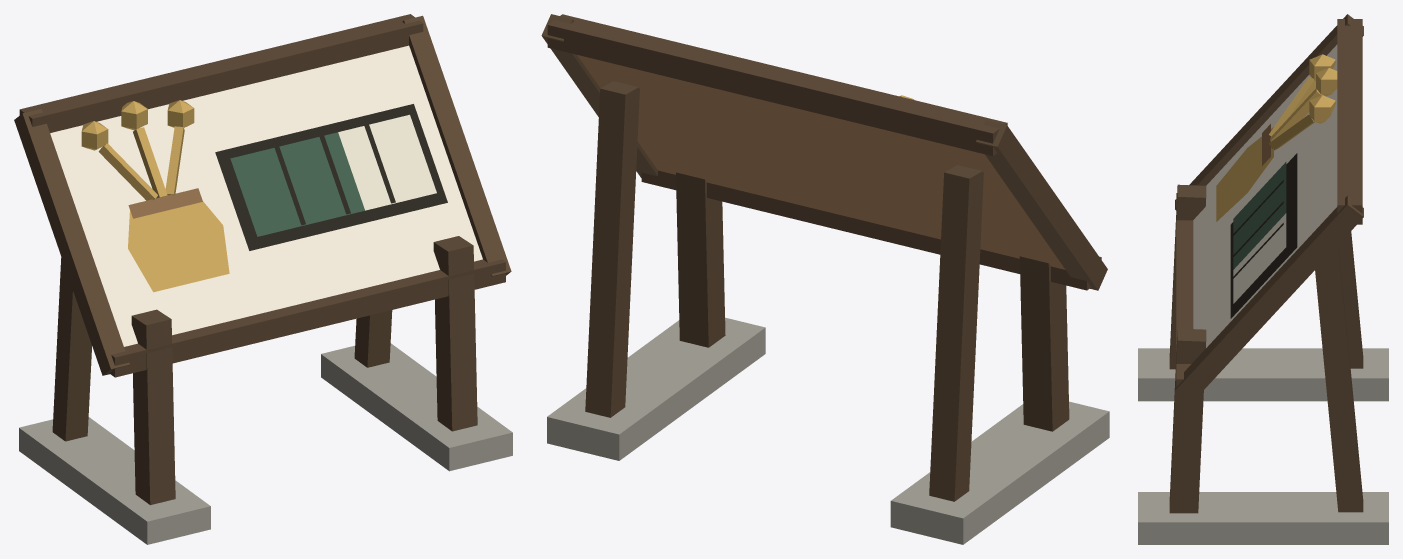
Rendered from quay-sign-grain.glb.
3 renders of one model, left to right at view 1: azimuth 30°, elevation 25°; view 2: azimuth 150°, elevation 25°; view 3: azimuth 270°, elevation 25°, orthographic. The views are drawn at different scales.
Parts seen in each view (by area): view 1: quay-sign-grain; view 2: quay-sign-grain; view 3: quay-sign-grain.
Boxes of the visible parts, x1,y1,x2,y2 form: quay-sign-grain: [14, 14, 512, 544]; quay-sign-grain: [541, 14, 1109, 544]; quay-sign-grain: [1138, 14, 1388, 544].
Size of the model in its own units: 2.52 by 2.15 by 1.4.
Materials: 1 (1 with a texture image).
